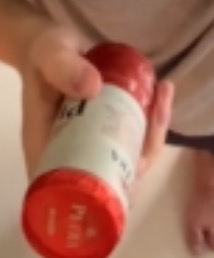petra: (18, 41, 169, 258)
